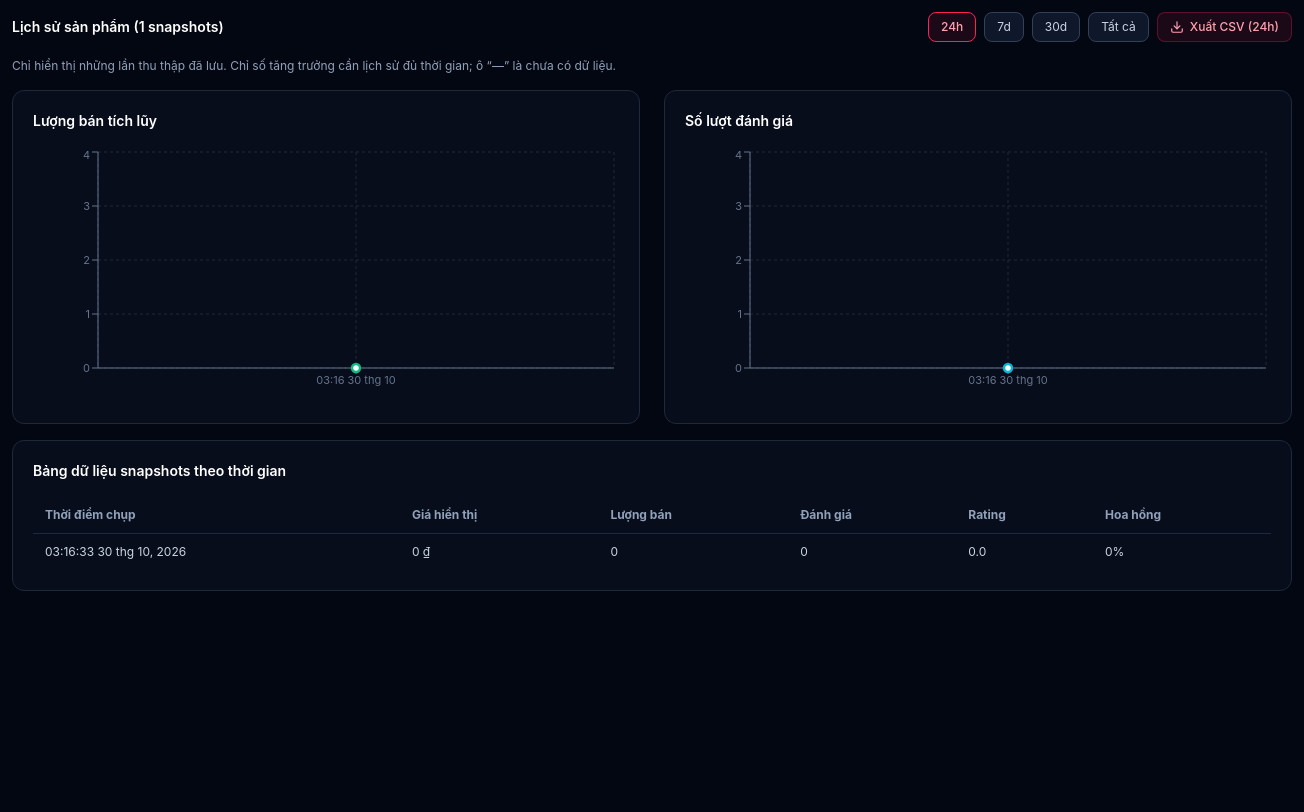
Test: product history › filters actual timestamps by the selected history window
The width and height of the screenshot is (1304, 812).
Expected: the heading "Lịch sử sản phẩm (1 snapshots)" is shown, [12,17,224,37]
Click the button "7d".
click(1004, 27)  # box [984,12,1024,42]
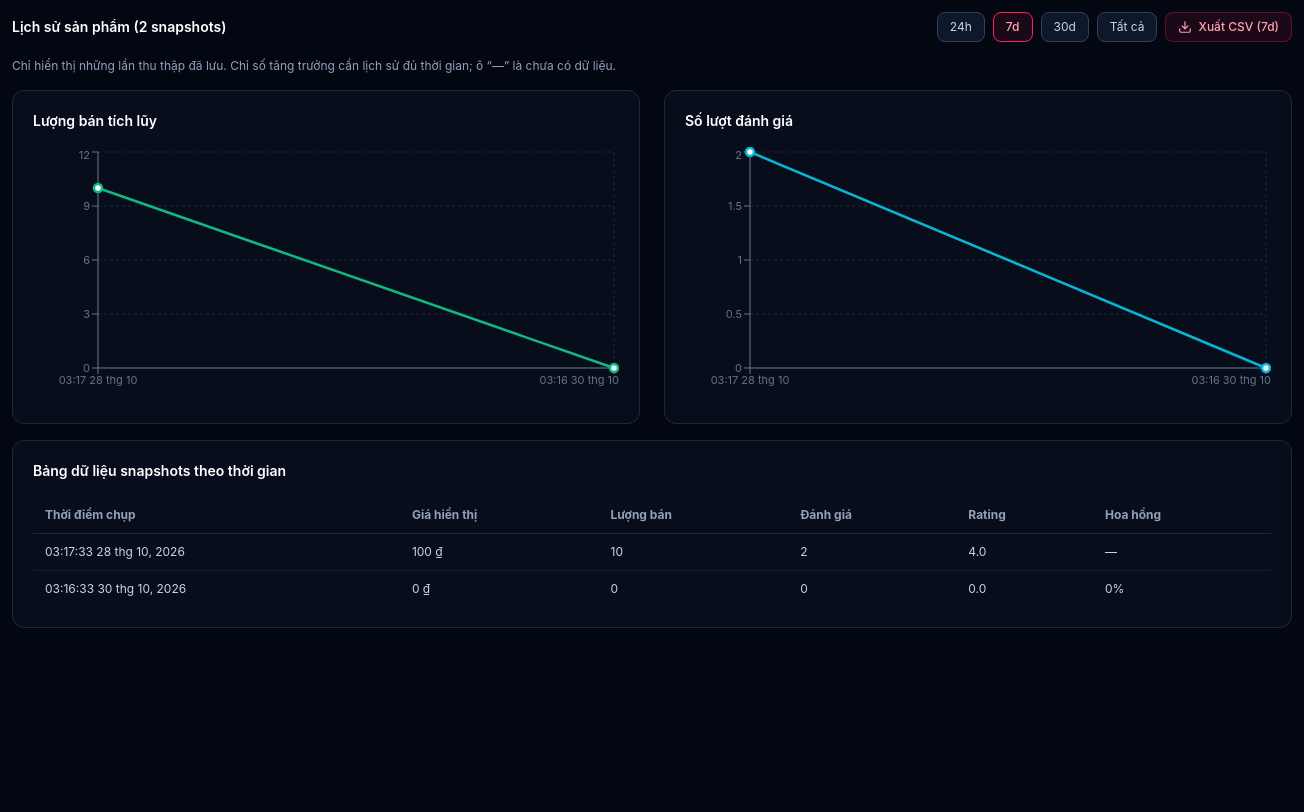
Now the heading "Lịch sử sản phẩm (2 snapshots)" is shown, box [12,17,226,37]
Click the button "30d".
click(1065, 27)  # box [1040,12,1089,42]
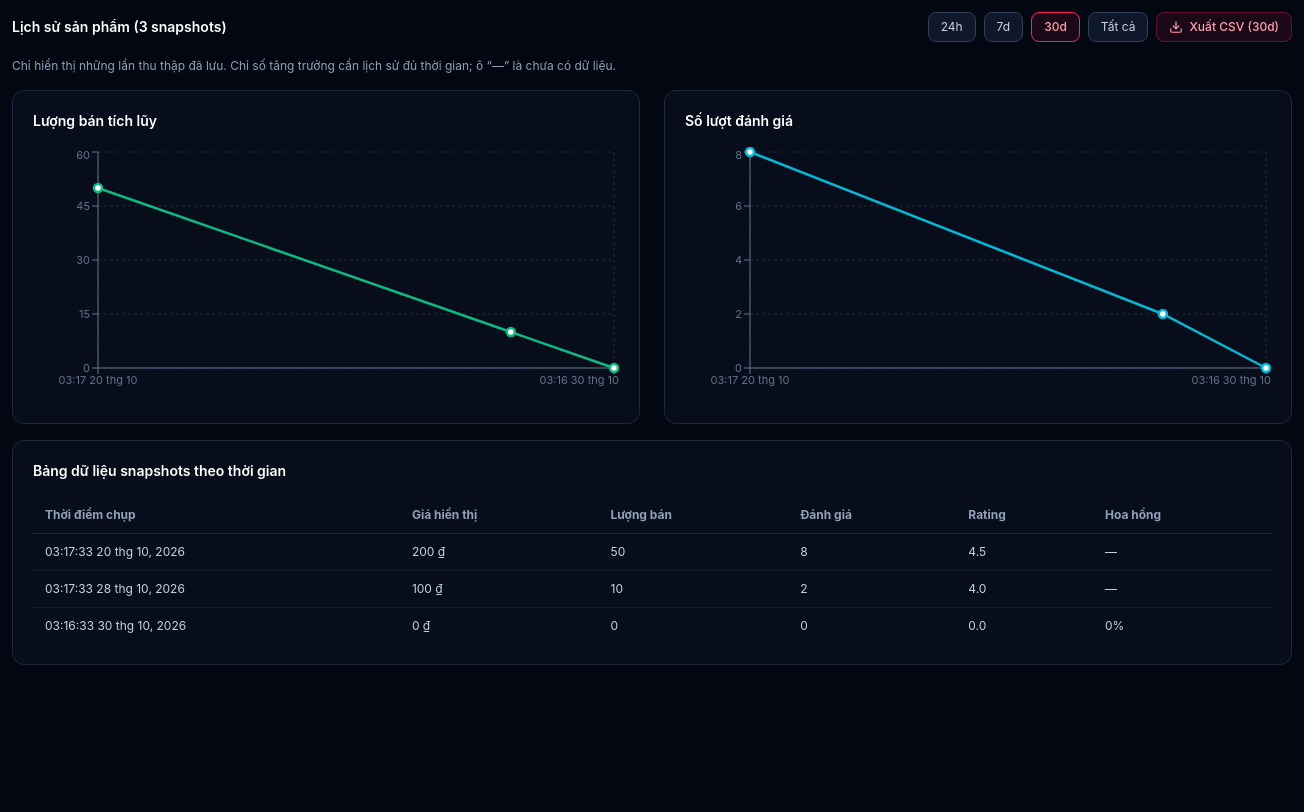
Now the heading "Lịch sử sản phẩm (3 snapshots)" is shown, box [12,17,227,37]
Click the button "Tất cả".
click(1118, 27)  # box [1088,12,1148,42]
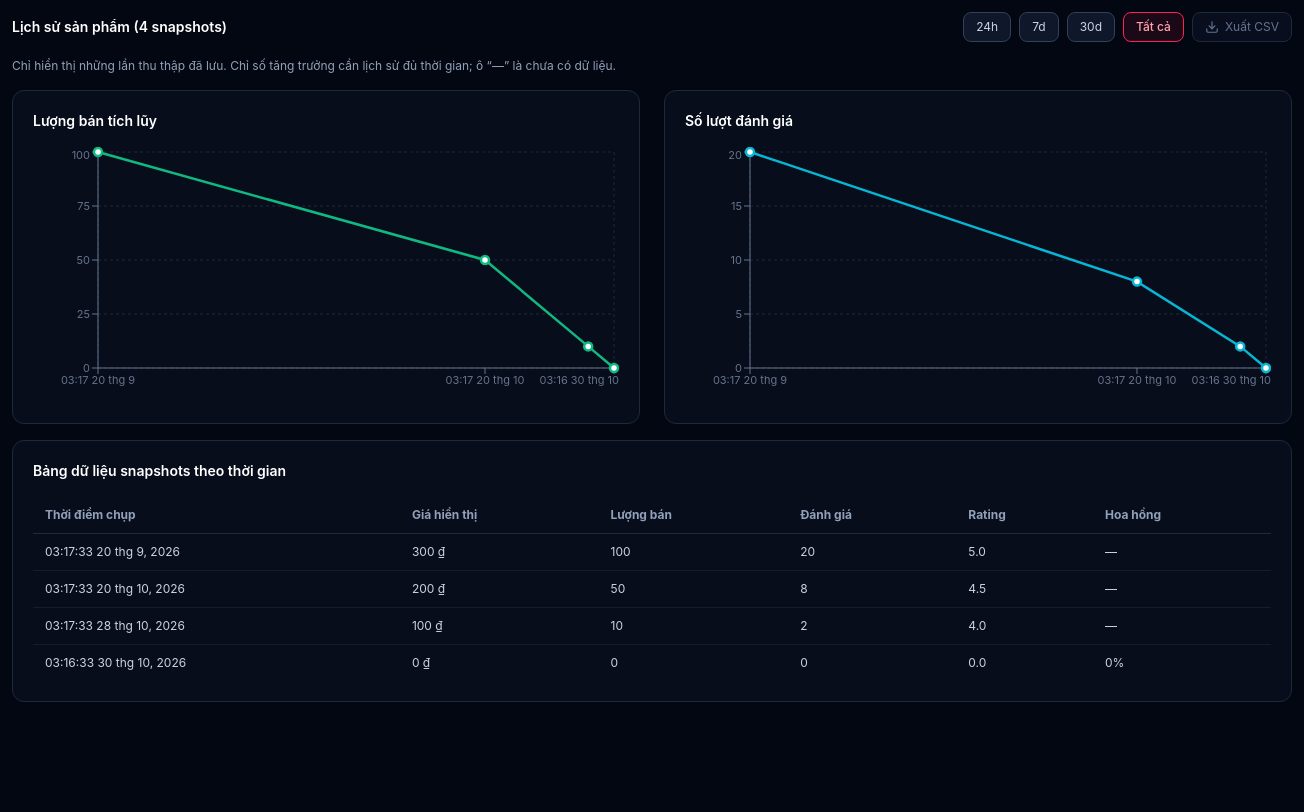
Now the heading "Lịch sử sản phẩm (4 snapshots)" is shown, box [12,17,227,37]
